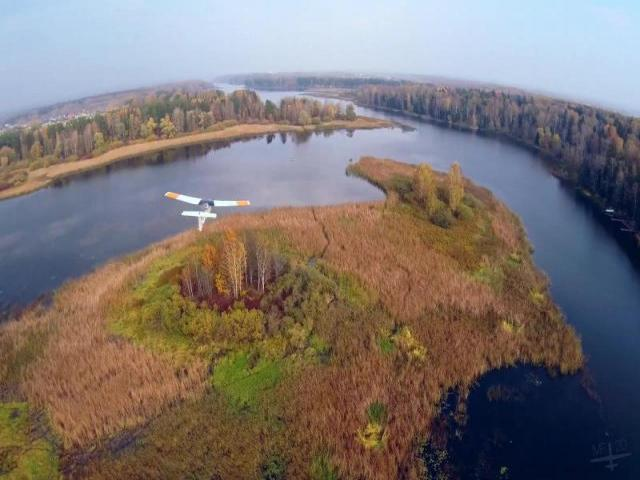hedef: (154, 185, 258, 241)
